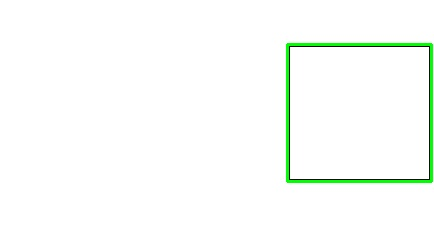line_segment: (286, 43, 433, 183)
